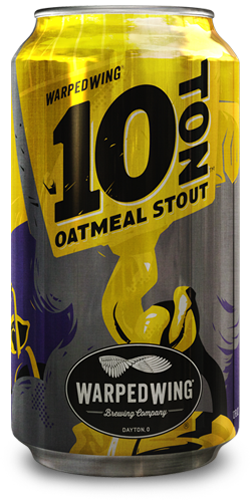beer can: (9, 7, 242, 478)
